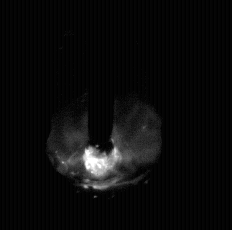arame: (89, 0, 115, 156)
poca: (47, 0, 160, 230)
